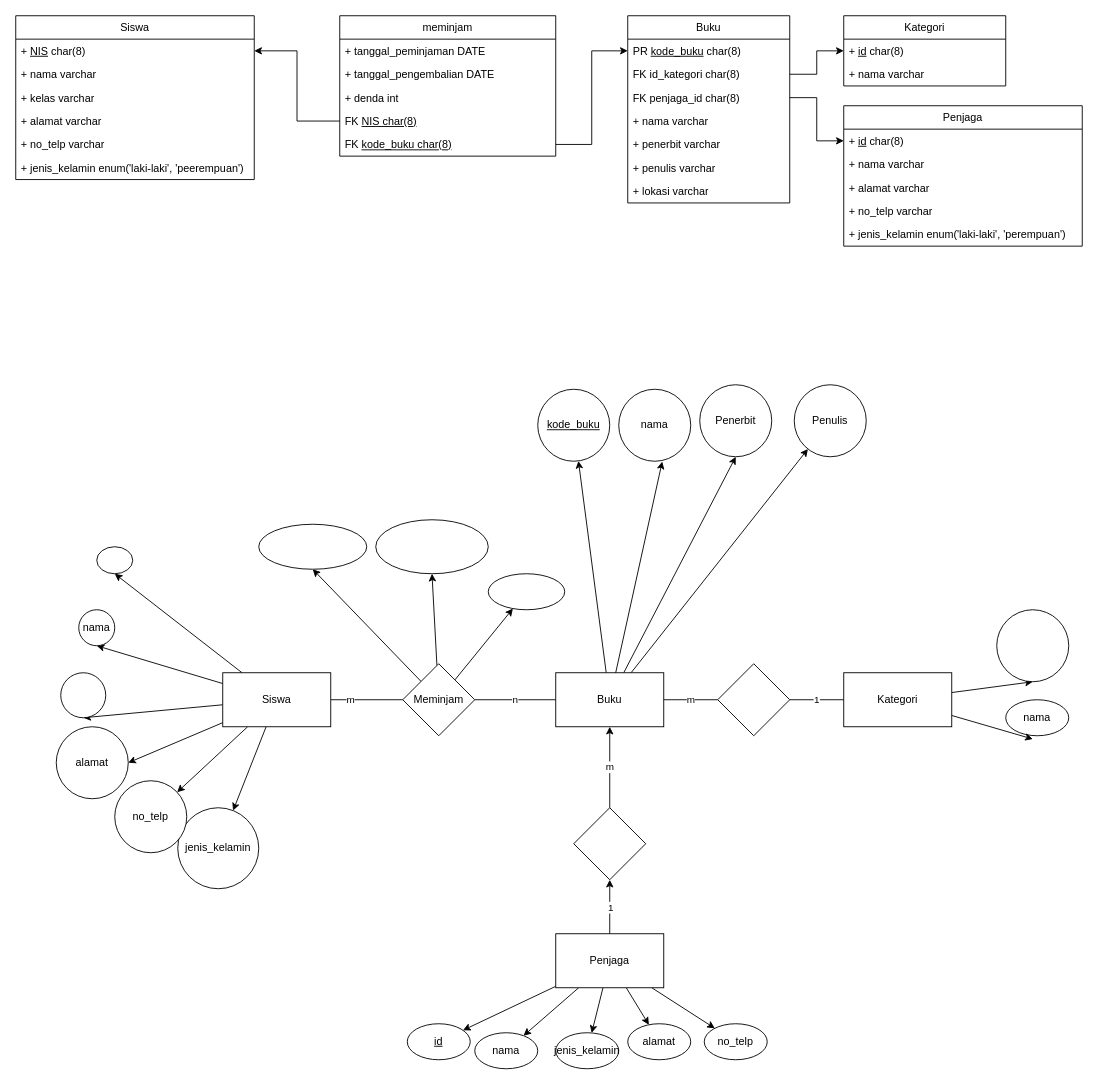
The diagram is 1098 pixels wide and 1085 high, and some of its shapes have lost their labels. The centre of each missing label's shape, as x and y in pixels:
denda: the point at 526,591
kelas: the point at 83,695
kode_kategori: the point at 1032,645
memilki: the point at 753,699
Mengelola: the point at 609,843
NIS: the point at 114,560
tanggal_peminjaman: the point at 312,546
tanggal_pengembalian: the point at 431,546
